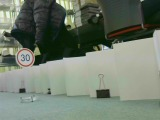speed_30: (14, 47, 36, 68)
